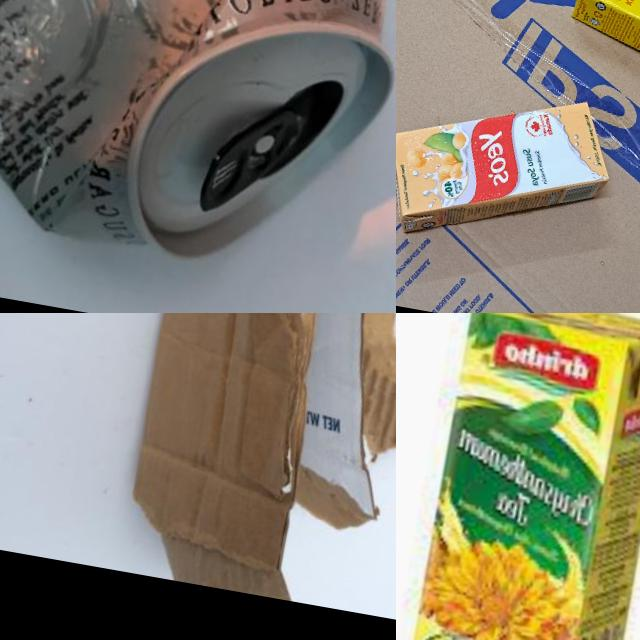aba de lata: (194, 94, 306, 227)
caixinha: (396, 313, 640, 640)
lata: (0, 0, 396, 290)
papelão: (116, 313, 396, 618), (396, 0, 640, 313), (564, 0, 640, 94)
